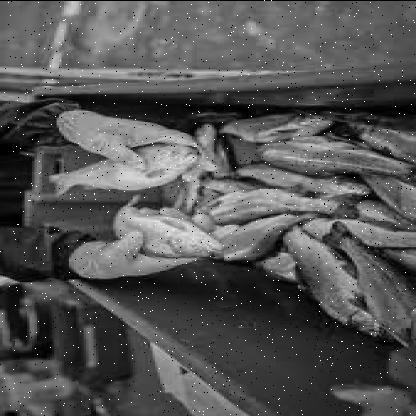fish: (45, 142, 201, 196), (106, 194, 220, 256)
